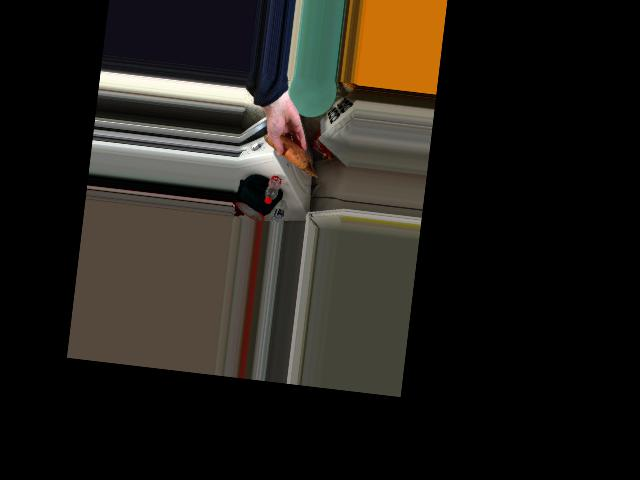sweet_potato: (271, 134, 306, 169)
